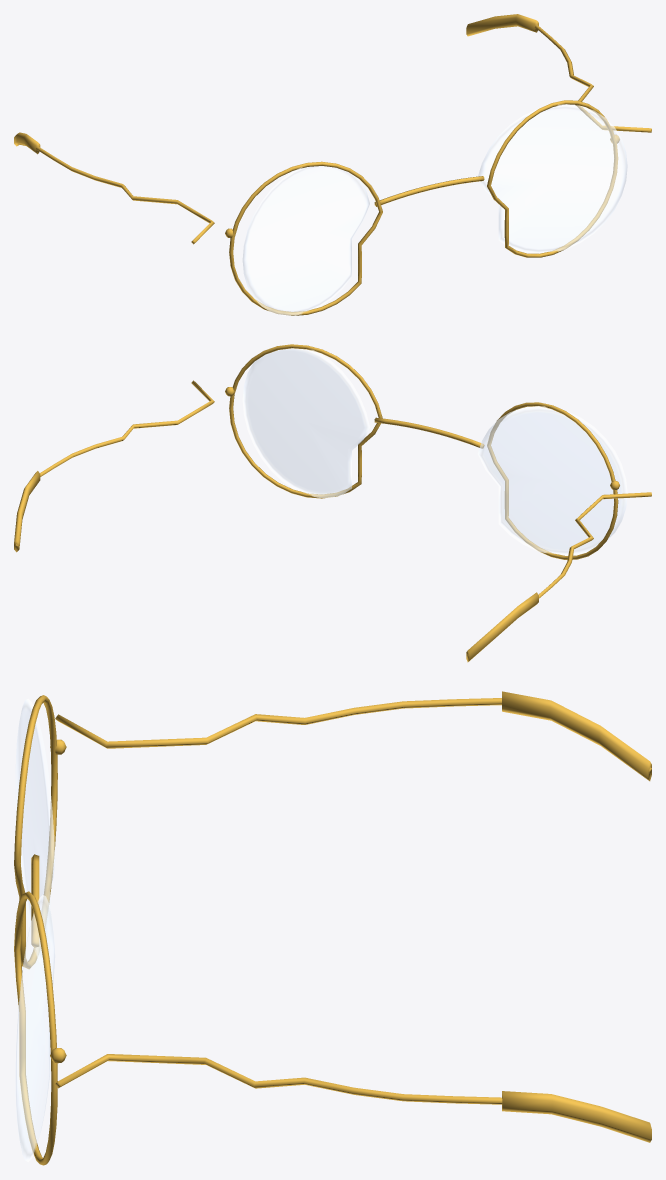
File: round_glasses.glb
3 renders of one model, top to bottom at view 1: azimuth 30°, elevation 25°; view 2: azimuth 150°, elevation 25°; view 3: azimuth 270°, elevation 25°, orthographic. The views are drawn at different scales.
Parts seen in each view (by area): view 1: round_glasses; view 2: round_glasses; view 3: round_glasses.
Part boxes in pixels (x1,y1,x2,y2): round_glasses: [14, 14, 651, 315]; round_glasses: [14, 344, 651, 662]; round_glasses: [14, 691, 651, 1165].
Bounding box in the file's own units: 0.2385 × 0.0688 × 0.1594.
